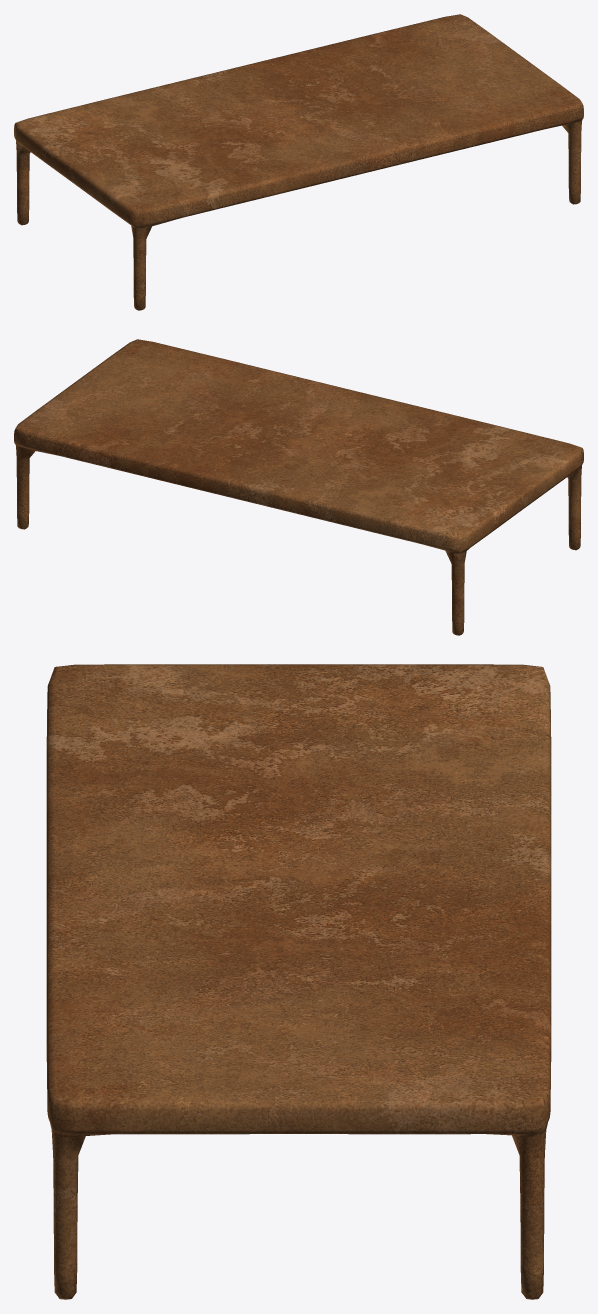
The model's file is Table.fbx.
The picture shows the model from 3 angles, top to bottom: view 1: azimuth 30°, elevation 25°; view 2: azimuth 150°, elevation 25°; view 3: azimuth 270°, elevation 25°; orthographic projection. The views are drawn at different scales.
Visible parts, largest first — view 1: Table.001; view 2: Table.001; view 3: Table.001.
Part boxes in pixels (box(x1,y1,x2,y2)): Table.001: box(14, 14, 583, 310); Table.001: box(14, 339, 583, 635); Table.001: box(46, 664, 551, 1299).
Bounding box in the file's own units: 450 × 95.89 × 217.
Materials: 1 (1 with a texture image).
